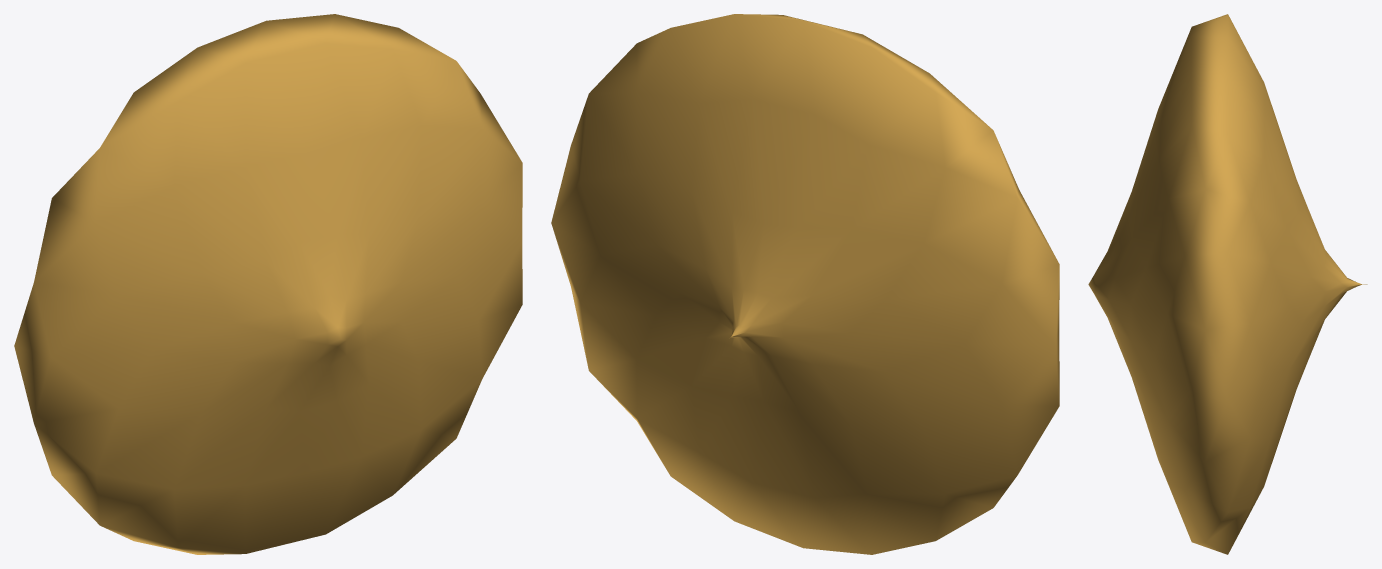
The model's file is bag_a.obj.
The picture shows the model from 3 angles, left to right: view 1: azimuth 30°, elevation 25°; view 2: azimuth 150°, elevation 25°; view 3: azimuth 270°, elevation 25°; orthographic projection. The views are drawn at different scales.
Parts seen in each view (by area): view 1: bag_a; view 2: bag_a; view 3: bag_a.
Part boxes in pixels (<box>): bag_a: <box>14,14,522,554</box>; bag_a: <box>551,14,1059,554</box>; bag_a: <box>1088,14,1367,554</box>.
Size of the model in its own units: 1.95 by 1.95 by 1.
